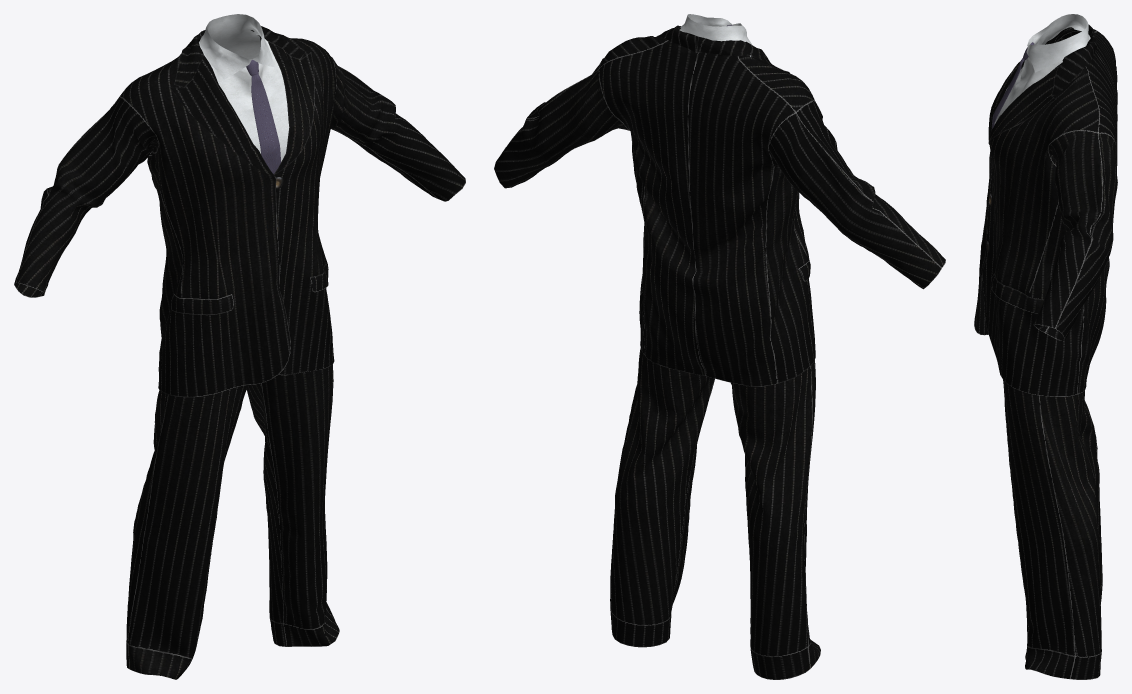
3 views of the same model, side by side, from view 1: azimuth 30°, elevation 25°; view 2: azimuth 150°, elevation 25°; view 3: azimuth 270°, elevation 25° (orthographic). The views are drawn at different scales.
Visible parts, largest first — view 1: Default_Mat_0, CAMISA_PARA_CORBATA, Tie; view 2: Default_Mat_0, CAMISA_PARA_CORBATA; view 3: Default_Mat_0, CAMISA_PARA_CORBATA, Tie.
Boxes of the visible parts, box(x1,y1,x2,y2) form: Default_Mat_0: box(14, 26, 465, 679); CAMISA_PARA_CORBATA: box(199, 14, 289, 161); Tie: box(246, 59, 280, 173); Default_Mat_0: box(494, 25, 945, 679); CAMISA_PARA_CORBATA: box(679, 14, 751, 56); Default_Mat_0: box(974, 24, 1117, 679); CAMISA_PARA_CORBATA: box(994, 14, 1090, 124); Tie: box(992, 42, 1034, 128).
Bounding box in the file's own units: 1.17 × 1.58 × 0.3338.
Materials: 3 (3 with a texture image).
